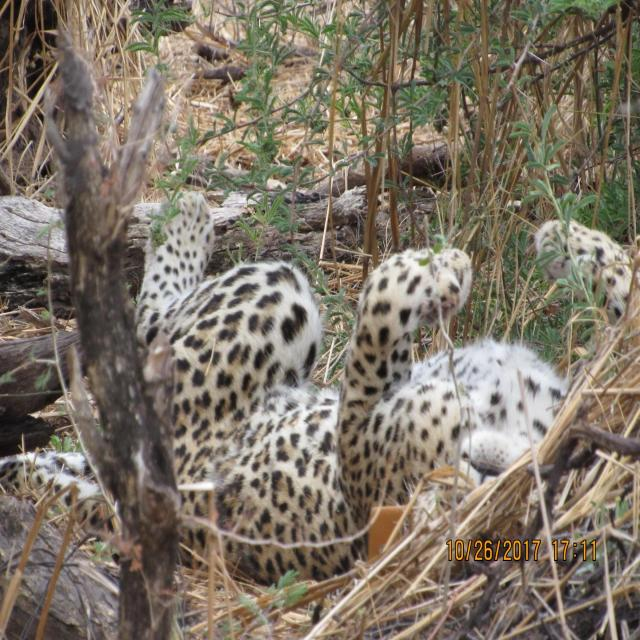Leopard: (0, 148, 640, 623)
